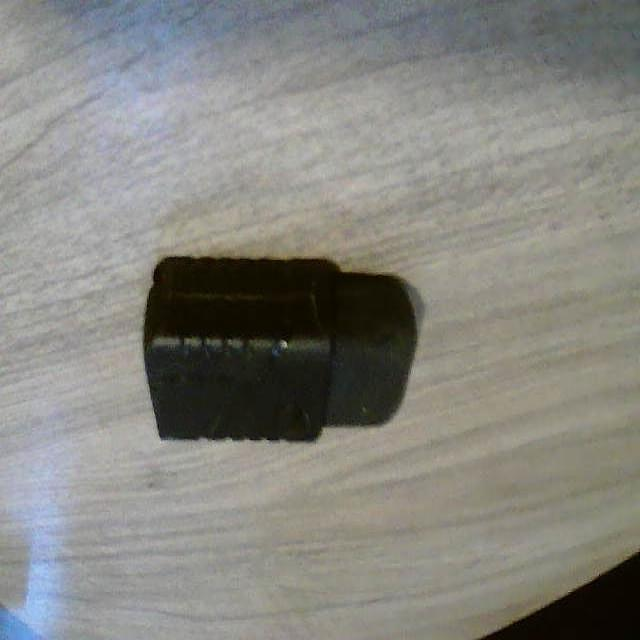borracha: (122, 244, 433, 462)
